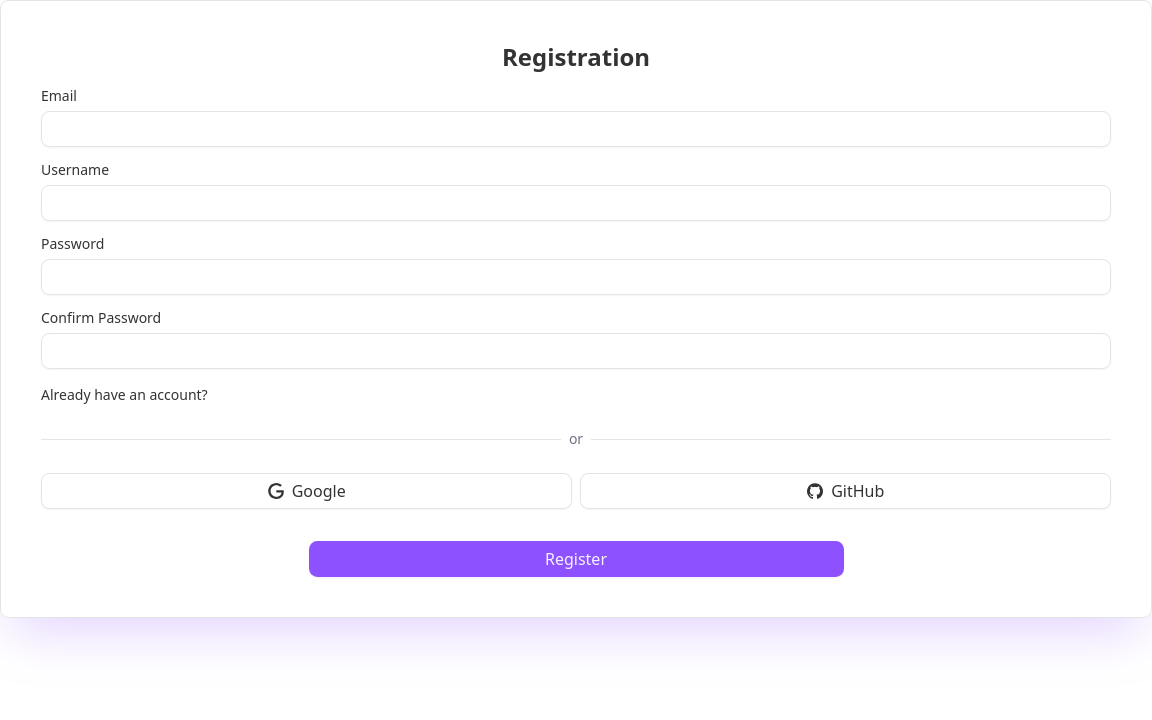
RegistrationForm component test › Form validation › Should show error if email is invalid
Type "invalid_format" into the field with test id "email-field" at coordinates (576, 129), box [41, 111, 1111, 147]
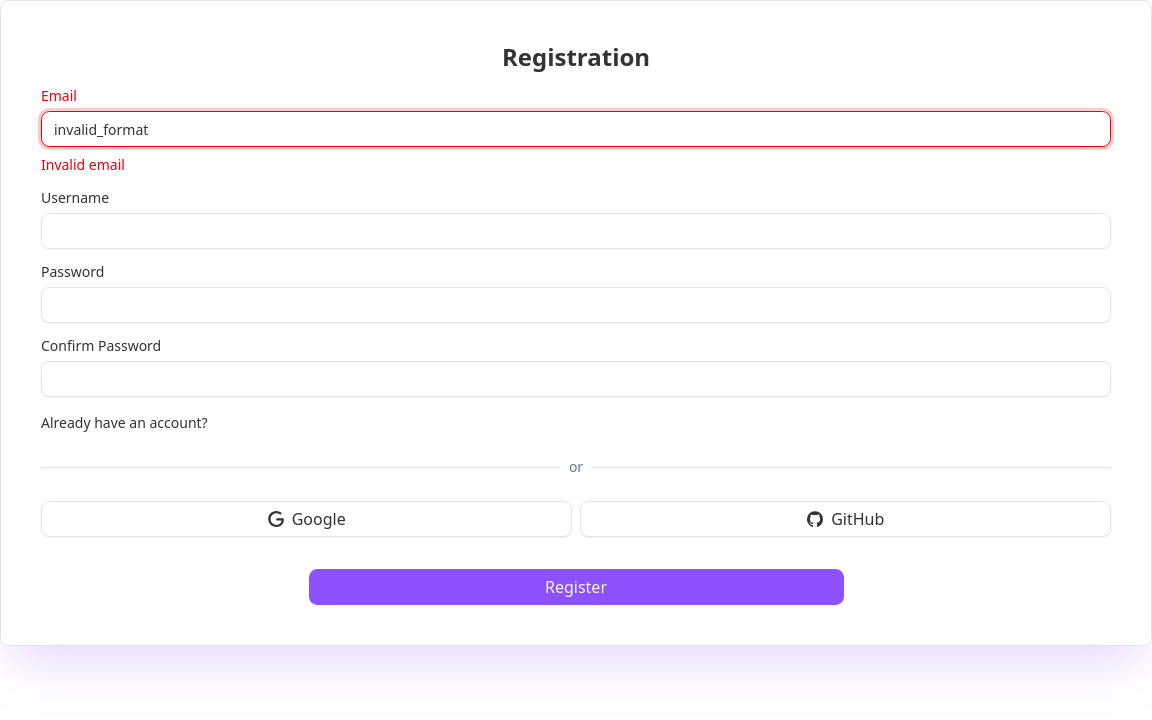
Expected: the text "Invalid email" is shown, [41, 155, 125, 174]
